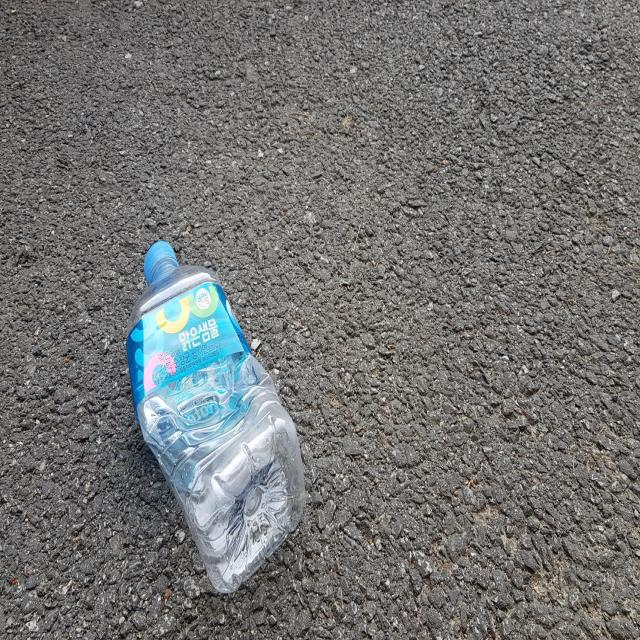plastic: (126, 241, 305, 593)
